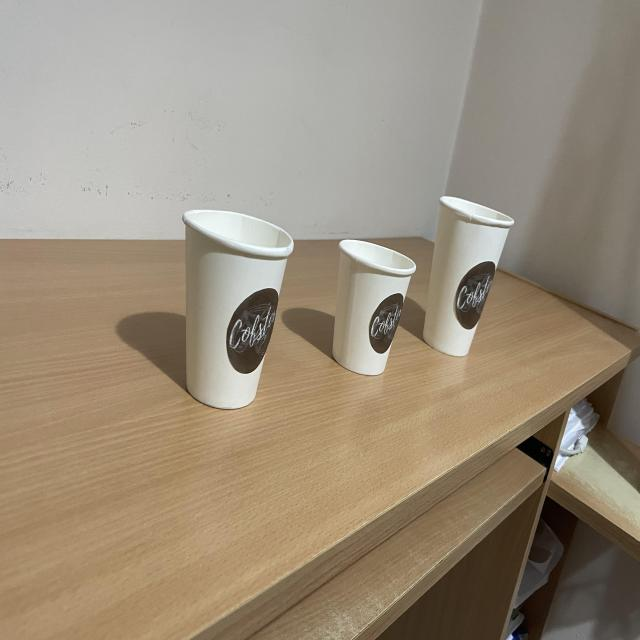big: (423, 176, 520, 361)
medium: (183, 202, 297, 410)
small: (334, 225, 418, 384)
